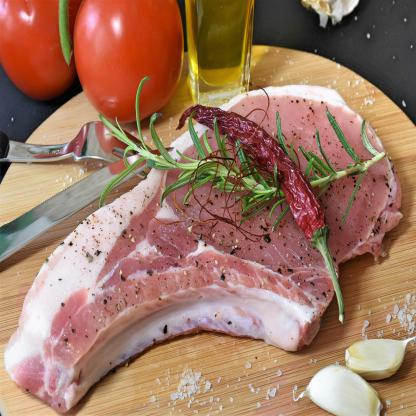beef: (3, 83, 394, 408)
garlic: (304, 364, 383, 416), (343, 332, 409, 383)
tomato: (72, 0, 185, 124), (0, 0, 79, 104)
